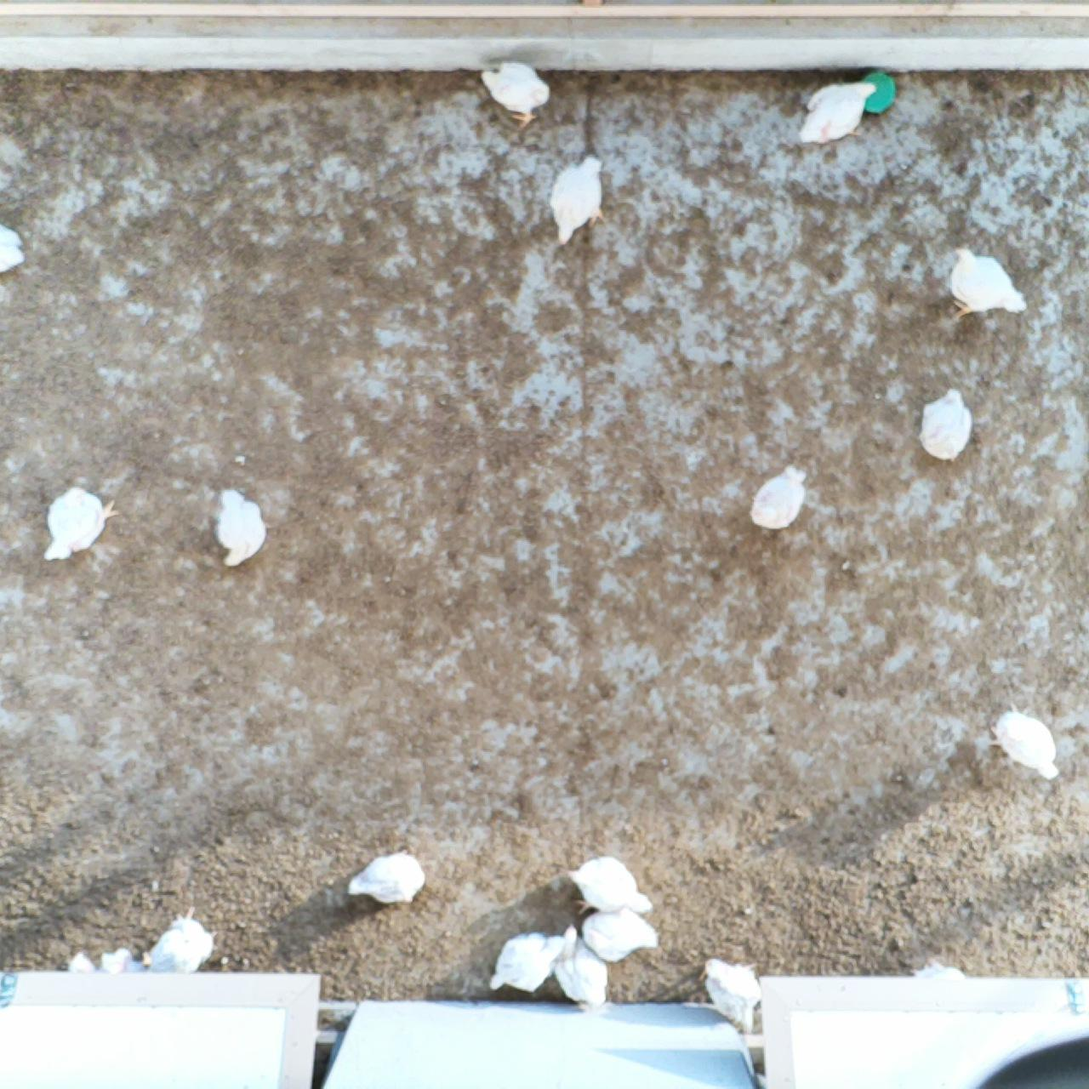chicken: (943, 242, 1031, 324), (982, 698, 1064, 784), (40, 482, 123, 565), (546, 151, 613, 251), (546, 921, 615, 1017), (795, 77, 882, 148), (693, 949, 764, 1035), (475, 56, 553, 134), (565, 854, 655, 919), (485, 928, 570, 996), (138, 903, 216, 977), (342, 843, 428, 910), (912, 383, 978, 466), (212, 481, 272, 572), (743, 462, 816, 536), (579, 903, 666, 964), (0, 220, 29, 280), (95, 944, 145, 977), (909, 953, 970, 980)
